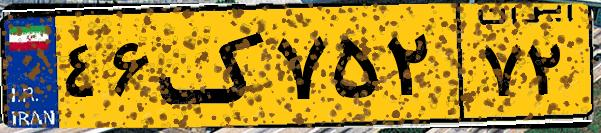2: (385, 28, 445, 110), (525, 38, 570, 115)
4: (57, 26, 110, 100)
5: (330, 28, 385, 110)
6: (110, 28, 158, 98)
7: (270, 28, 330, 110), (475, 38, 525, 113)
ک: (158, 12, 270, 120)
